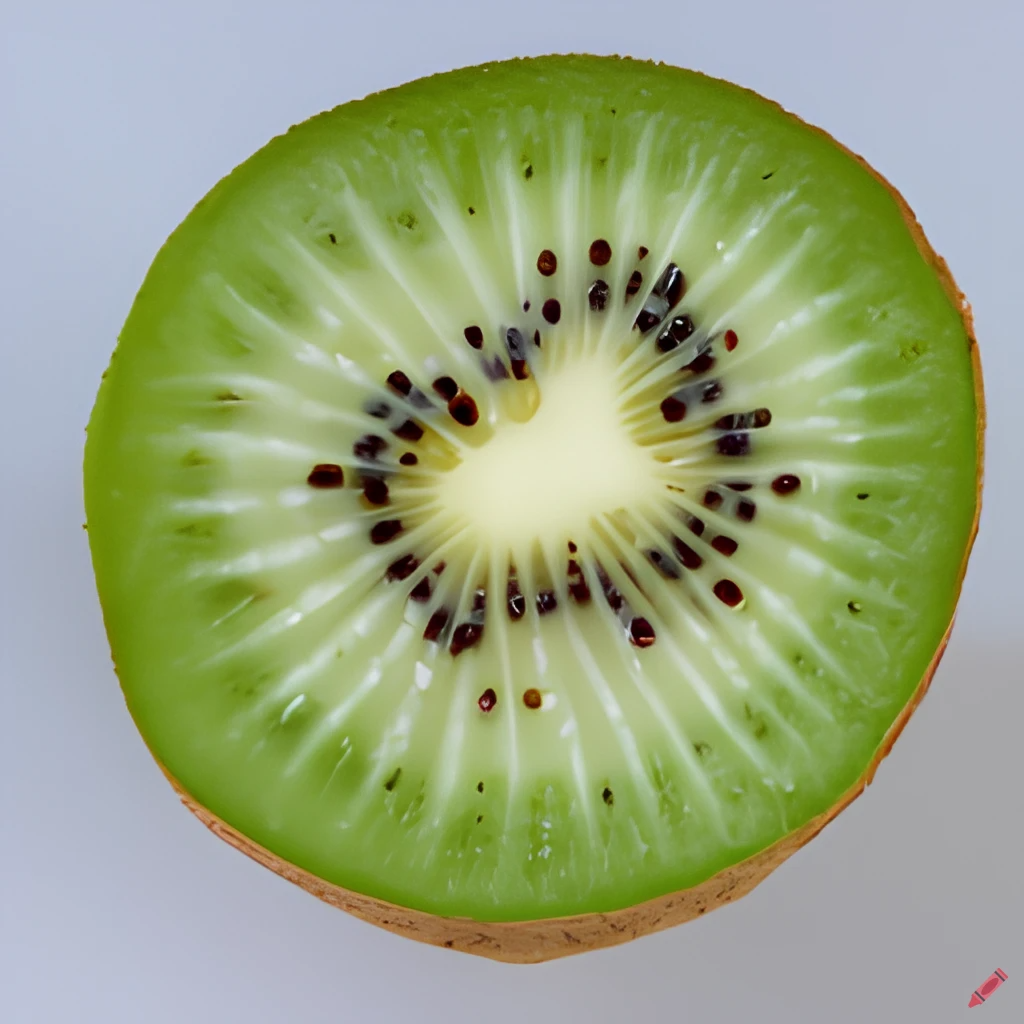Kiwi: (67, 38, 1002, 996)
